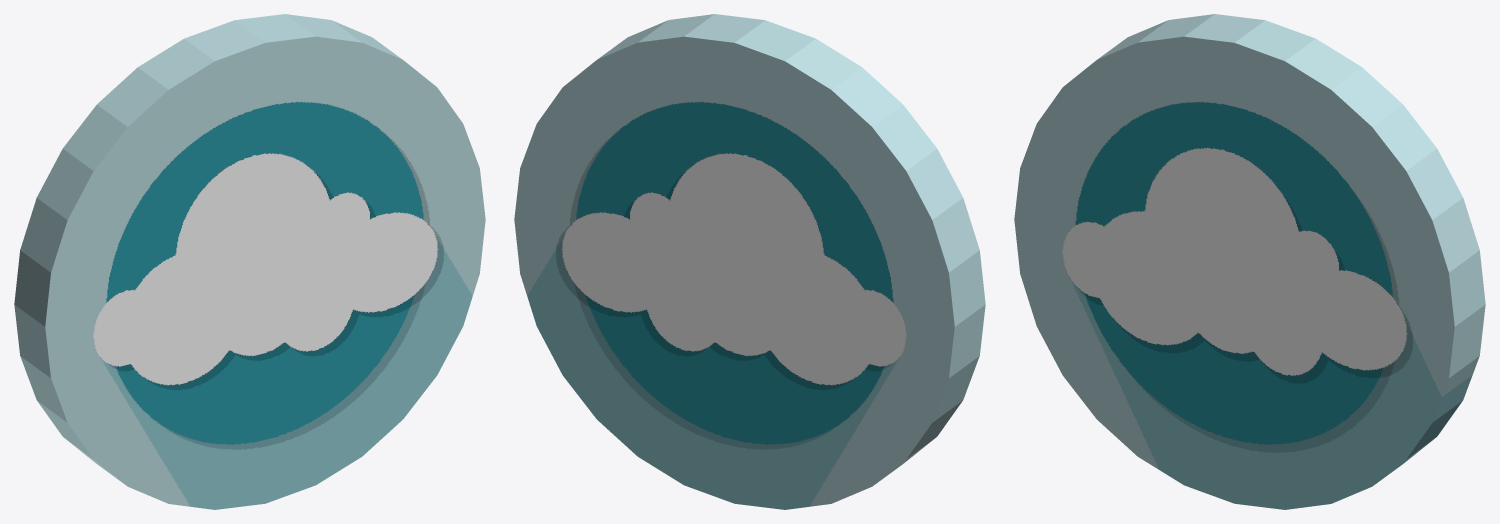
The model's file is cloud.FBX.
3 views of the same model, side by side, from view 1: azimuth 30°, elevation 25°; view 2: azimuth 150°, elevation 25°; view 3: azimuth 330°, elevation 25° (orthographic).
Visible parts, largest first — view 1: cloud; view 2: cloud; view 3: cloud.
Part boxes in pixels (left/top/right/bottom): cloud: left=14, top=14, right=485, bottom=509; cloud: left=514, top=14, right=985, bottom=509; cloud: left=1014, top=14, right=1485, bottom=509.
Bounding box in the file's own units: 36.74 × 36.74 × 4.46.
Materials: 1 (1 with a texture image).
